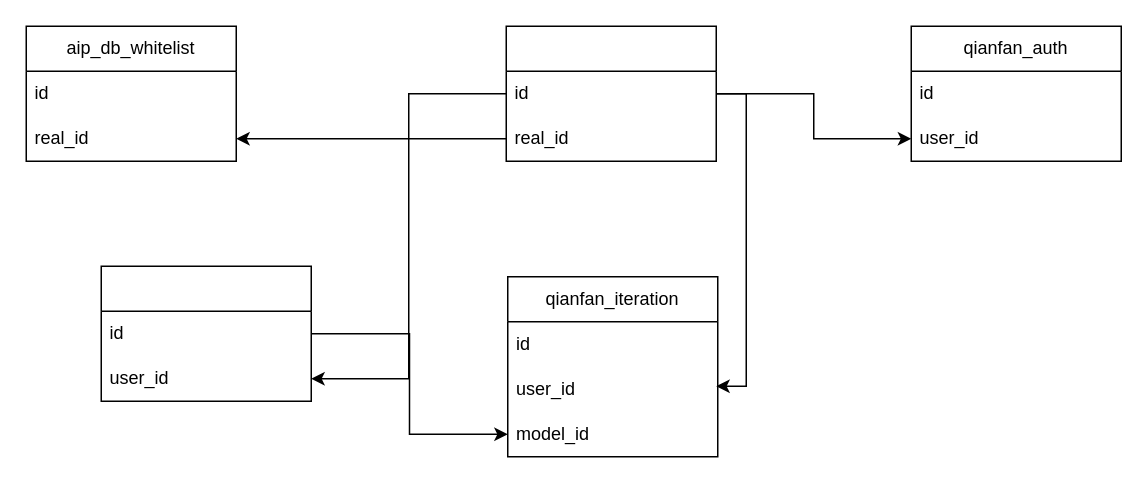
This 1148x483 diagram has some shape labels left out. Each missing label, with the box of its shape:
aip_db_user: (505, 25, 716, 161)
qianfan_model: (100, 265, 311, 401)
